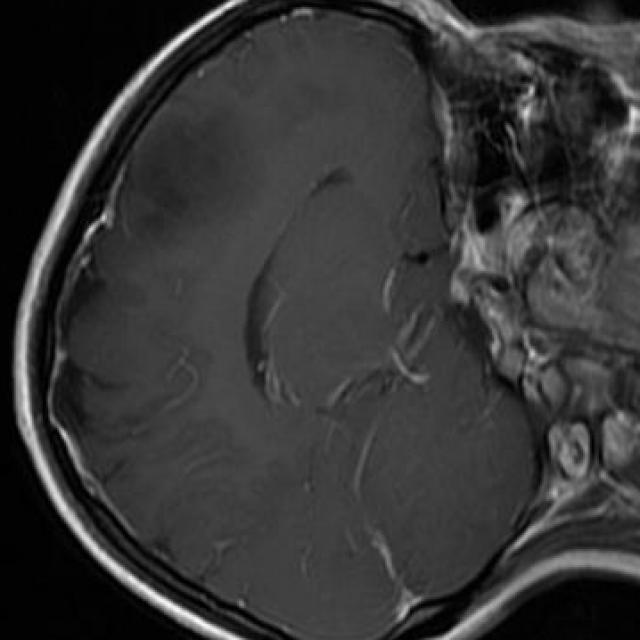glioma: (119, 114, 251, 251)
